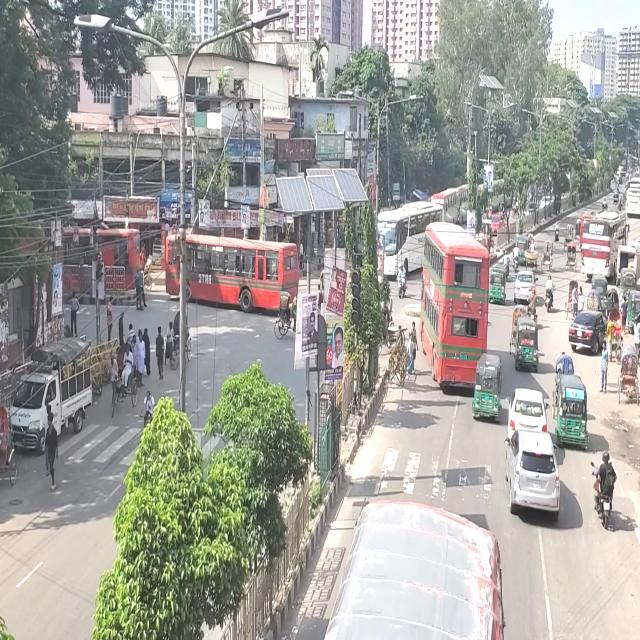silver: (504, 431, 560, 518)
